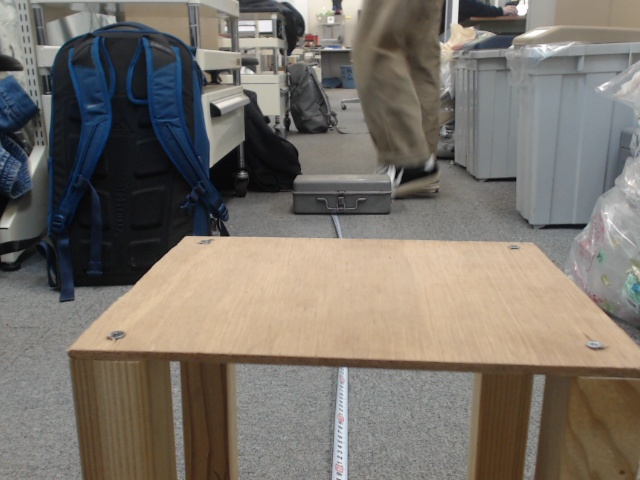desk: (280, 182, 508, 433)
